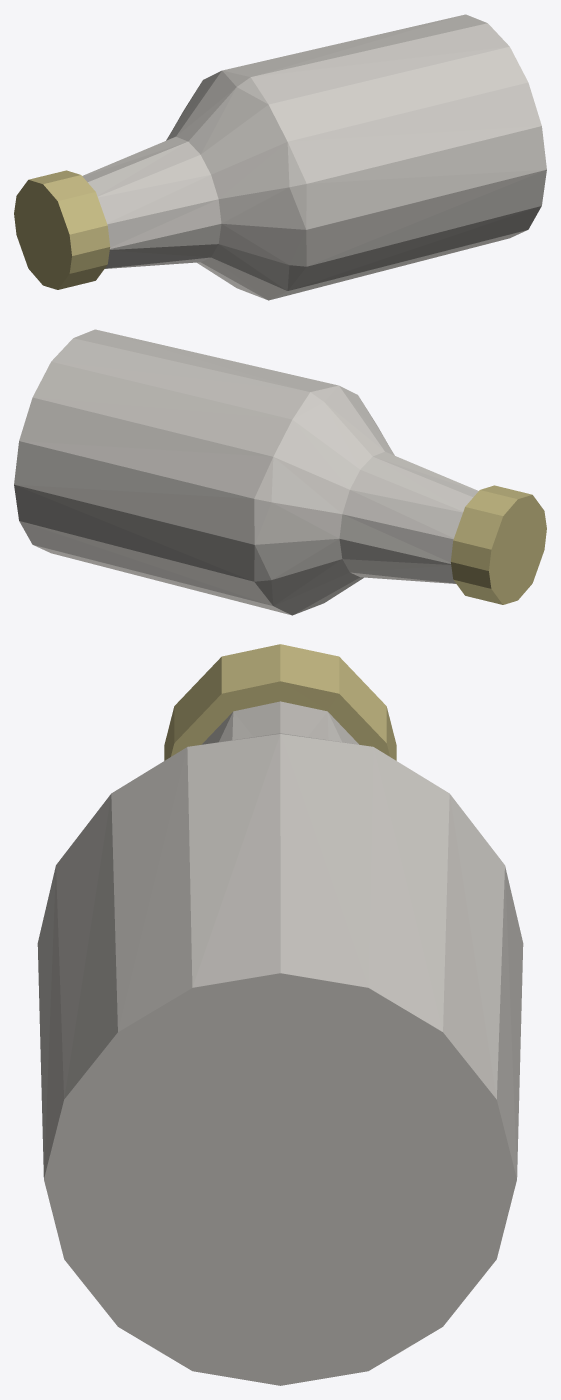
Rendered from Model_Butelka_3.fbx.
3 views of the same model, one above another, from view 1: azimuth 30°, elevation 25°; view 2: azimuth 150°, elevation 25°; view 3: azimuth 270°, elevation 25° (orthographic). The views are drawn at different scales.
Visible parts, largest first — view 1: Mesh_Butelka_3; view 2: Mesh_Butelka_3; view 3: Mesh_Butelka_3.
Part boxes in pixels (bbox=[...]): Mesh_Butelka_3: bbox=[14, 14, 546, 300]; Mesh_Butelka_3: bbox=[14, 329, 546, 615]; Mesh_Butelka_3: bbox=[37, 644, 523, 1385].
Bounding box in the file's own units: 10.31 × 10.04 × 21.82.
